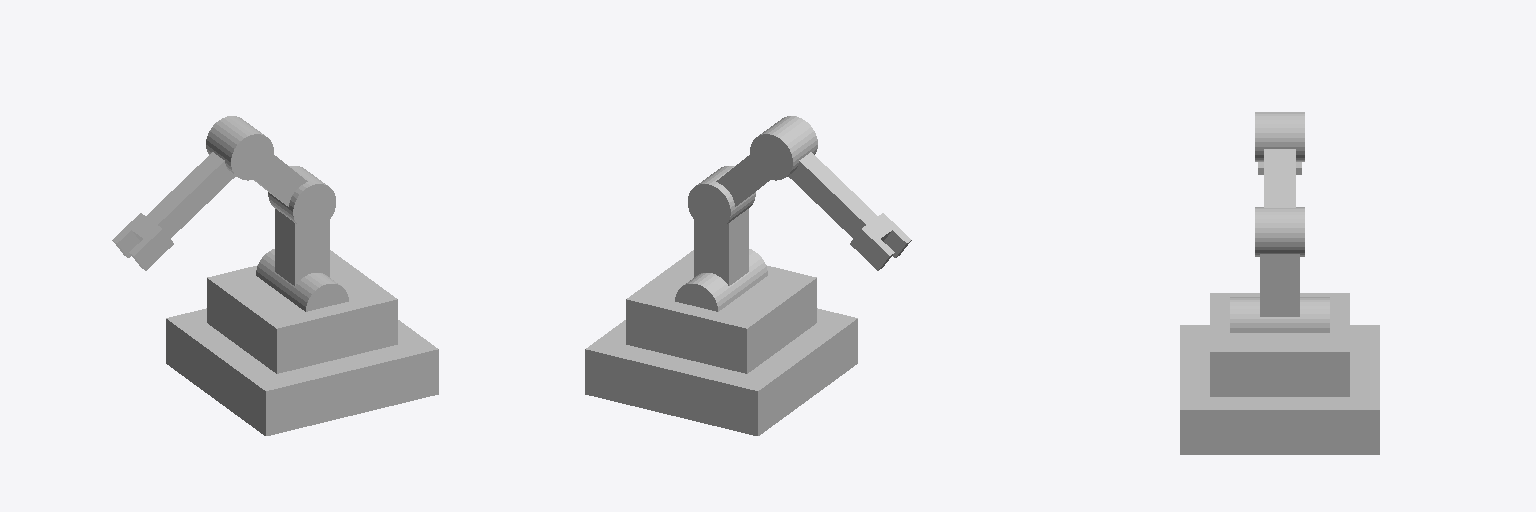
Rendered from robot_arm.obj.
3 views of the same model, side by side, from view 1: azimuth 30°, elevation 25°; view 2: azimuth 150°, elevation 25°; view 3: azimuth 270°, elevation 25° (orthographic).
Visible parts, largest first — view 1: Cube.001; view 2: Cube.001; view 3: Cube.001.
Boxes of the visible parts, box(x1,y1,x2,y2) form: Cube.001: box(112, 116, 438, 435); Cube.001: box(585, 116, 911, 435); Cube.001: box(1180, 112, 1379, 454).
Size of the model in its own units: 3.07 by 2.97 by 2.